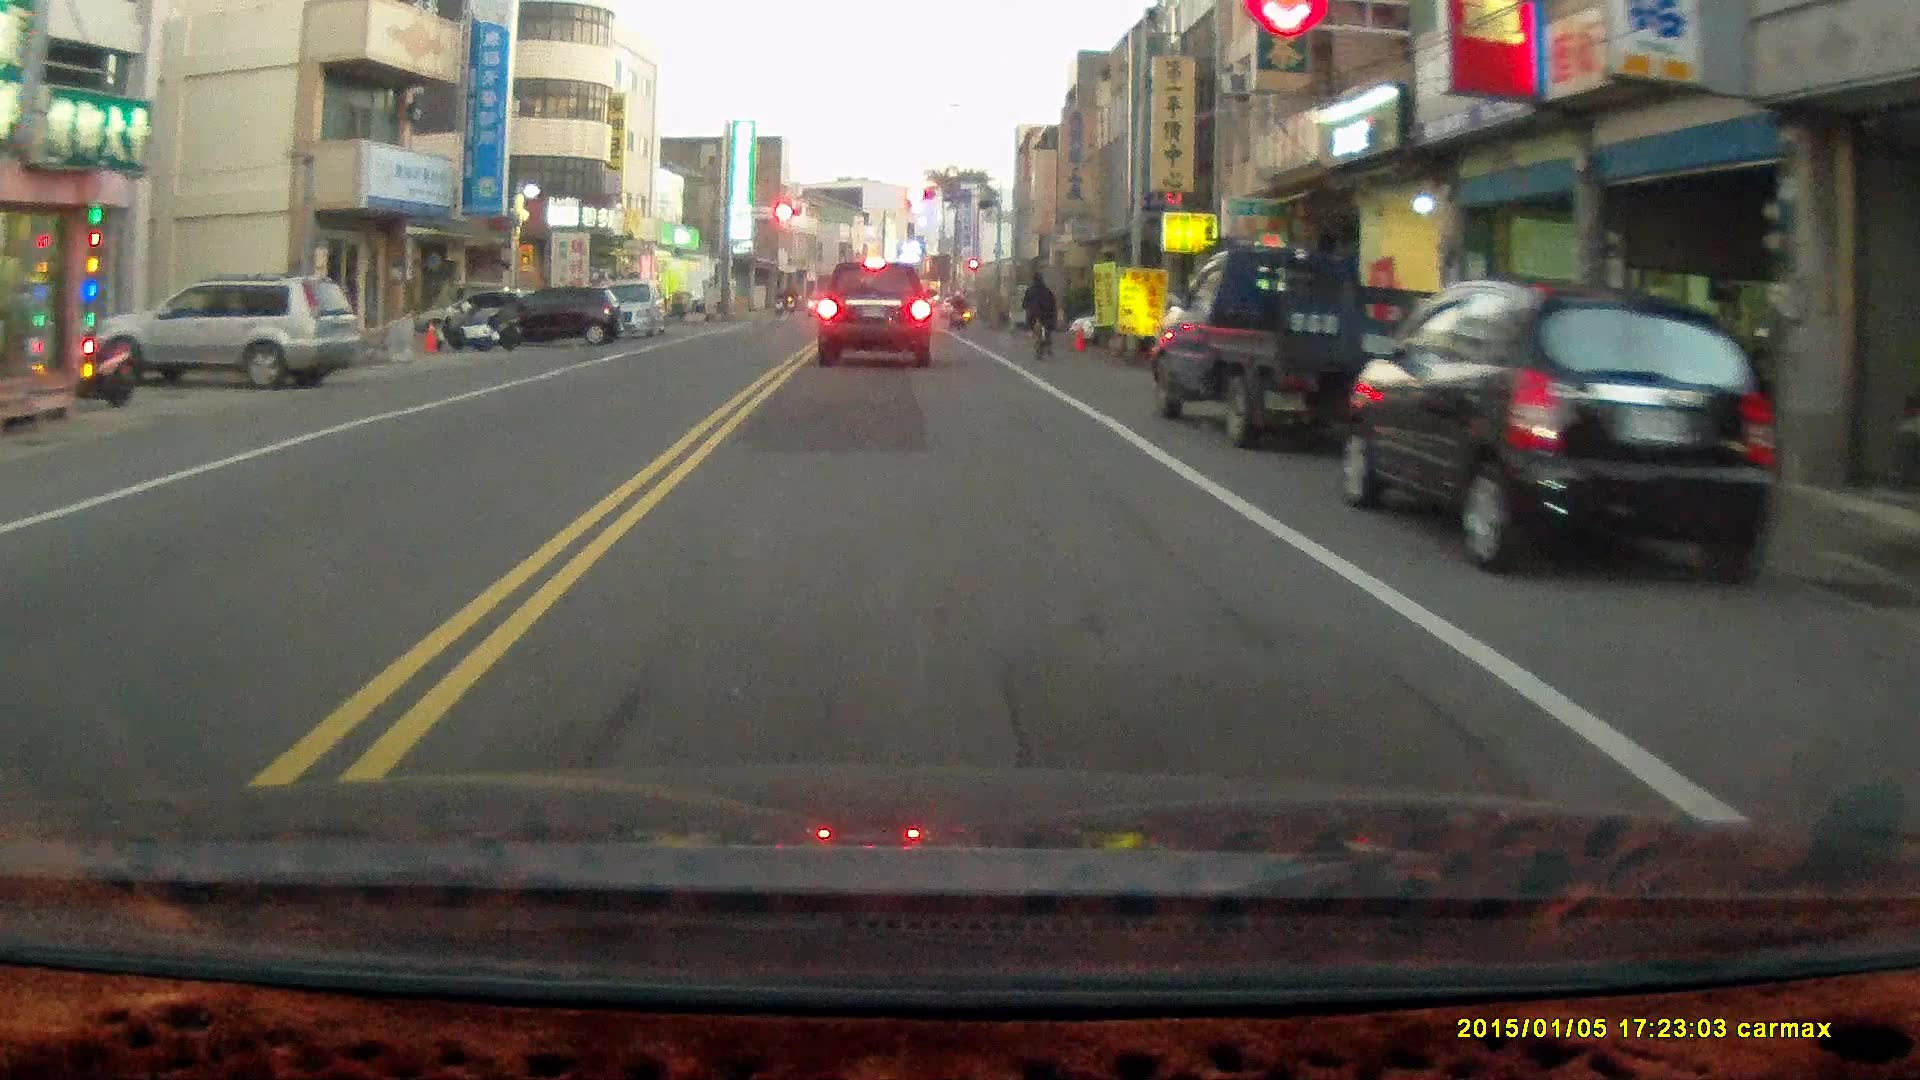rider: (1019, 266, 1063, 365)
vehicle: (1347, 278, 1773, 582), (1156, 245, 1443, 444), (96, 270, 364, 401), (816, 259, 934, 372), (485, 285, 625, 344), (576, 275, 670, 344)
